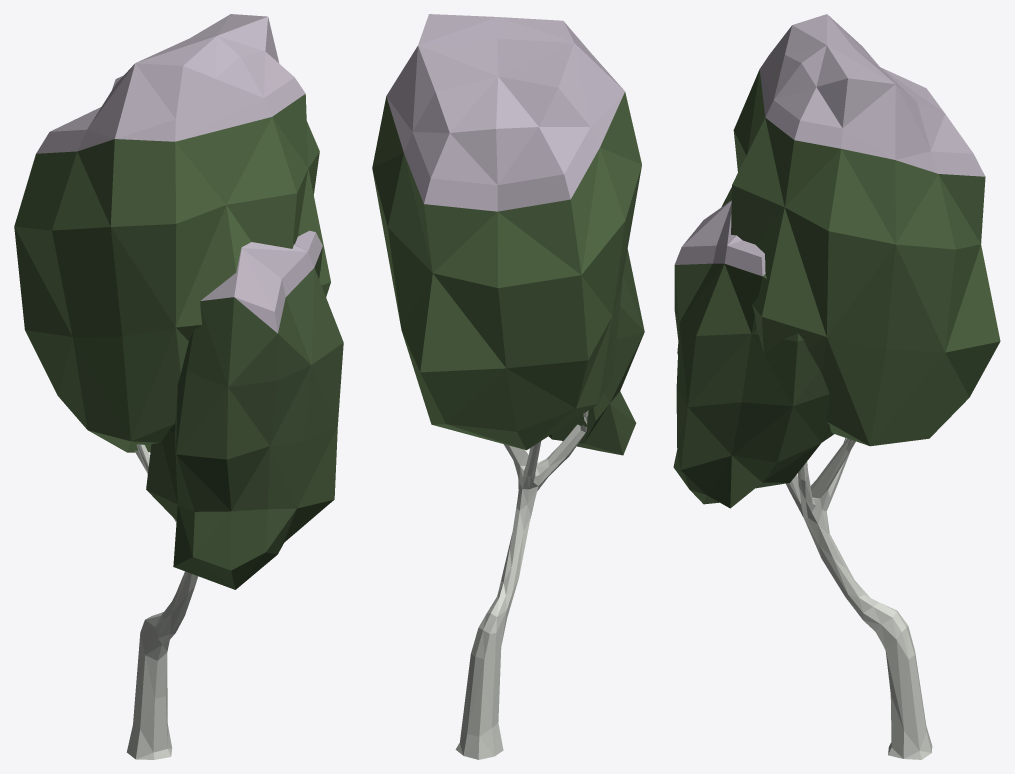
The model's file is BirchTree_Snow_2.lod1.glb.
The picture shows the model from 3 angles, left to right: view 1: azimuth 30°, elevation 25°; view 2: azimuth 150°, elevation 25°; view 3: azimuth 270°, elevation 25°; orthographic projection. The views are drawn at different scales.
Visible parts, largest first — view 1: BirchTree_Snow_2; view 2: BirchTree_Snow_2; view 3: BirchTree_Snow_2.
Part boxes in pixels (x1=…): BirchTree_Snow_2: x1=14, y1=14, x2=343, y2=759; BirchTree_Snow_2: x1=372, y1=14, x2=644, y2=759; BirchTree_Snow_2: x1=673, y1=14, x2=1000, y2=759.
Bounding box in the file's own units: 1.47 × 4.09 × 1.69.
